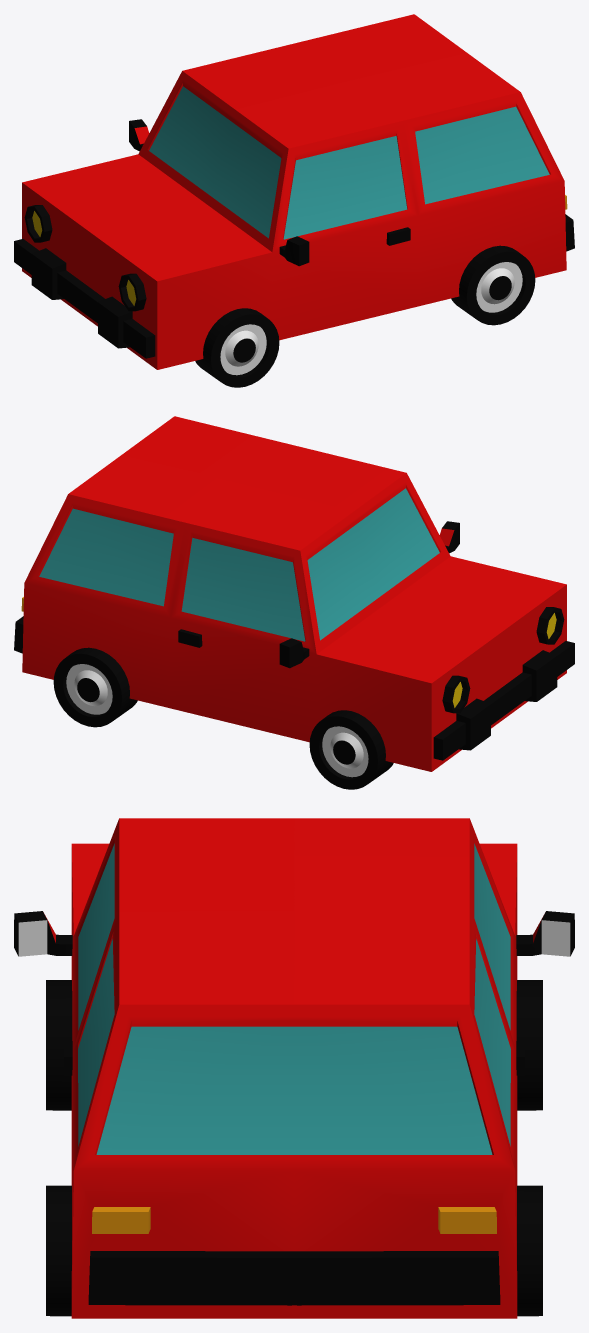
Rendered from car1.fbx.
3 renders of one model, top to bottom at view 1: azimuth 30°, elevation 25°; view 2: azimuth 150°, elevation 25°; view 3: azimuth 270°, elevation 25°, orthographic. The views are drawn at different scales.
Parts seen in each view (by area): view 1: Cube; view 2: Cube; view 3: Cube.
Boxes of the visible parts, box(x1,y1,x2,y2) form: Cube: box(14, 14, 574, 387); Cube: box(14, 416, 574, 789); Cube: box(14, 818, 574, 1318).
Size of the model in its own units: 374 by 169 by 252.
